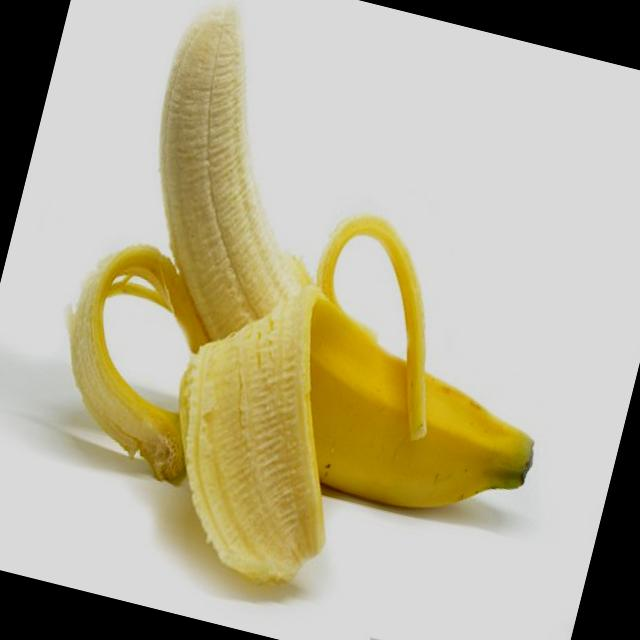banana: (37, 0, 628, 552)
